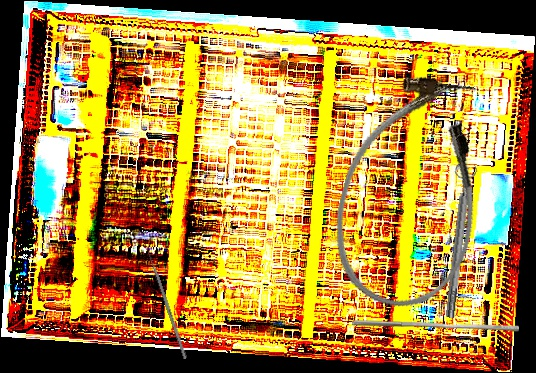Cannula: (318, 62, 506, 321)
Fixation Ring: (436, 163, 480, 319)
Pusher: (144, 244, 188, 360), (352, 320, 519, 332)
